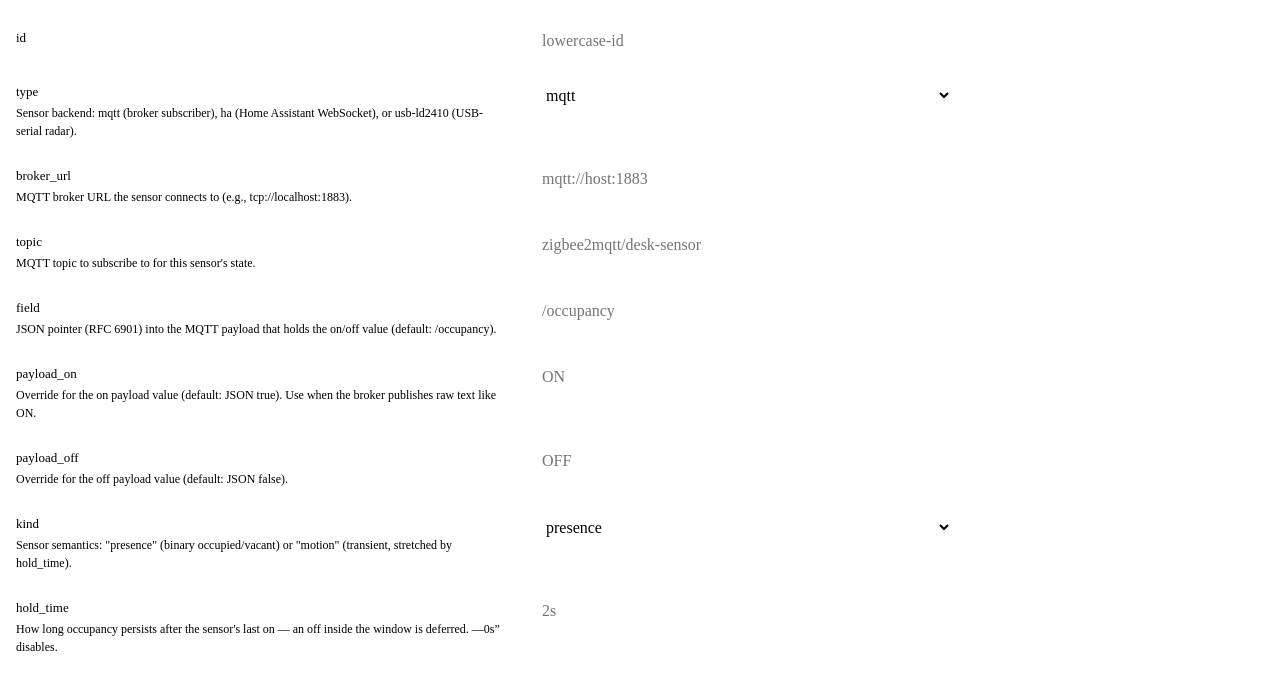
Test: CreateEntityForm — id hygiene live feedback › rejects a reserved id live, before submit
Type "weights" into the field labelled "id" at (742, 41), box [532,26,952,56]
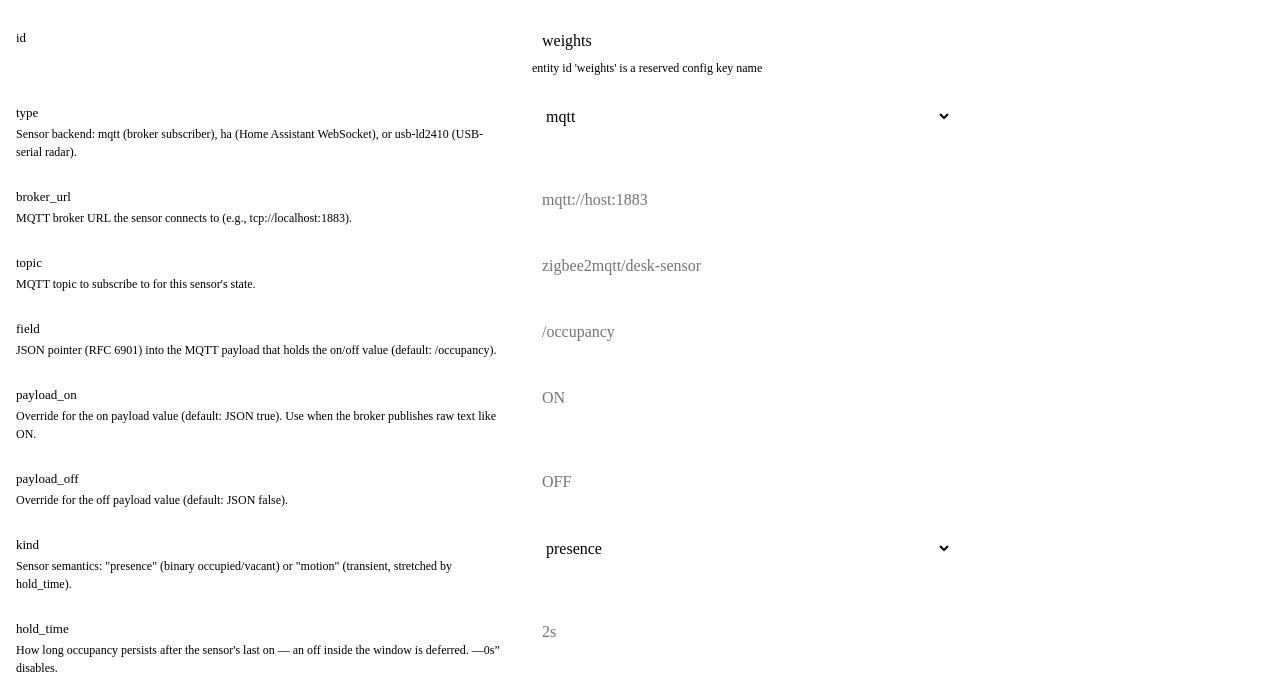
Expected: the text "entity id 'weights' is a reserved config key name" is shown, [532,61,762,75]
